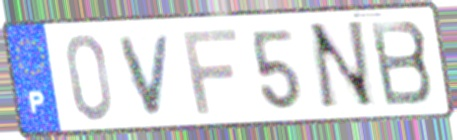0: (62, 32, 115, 125)
5: (247, 25, 307, 111)
B: (366, 17, 437, 110)
F: (179, 26, 241, 117)
N: (305, 17, 380, 115)
V: (115, 30, 176, 119)
